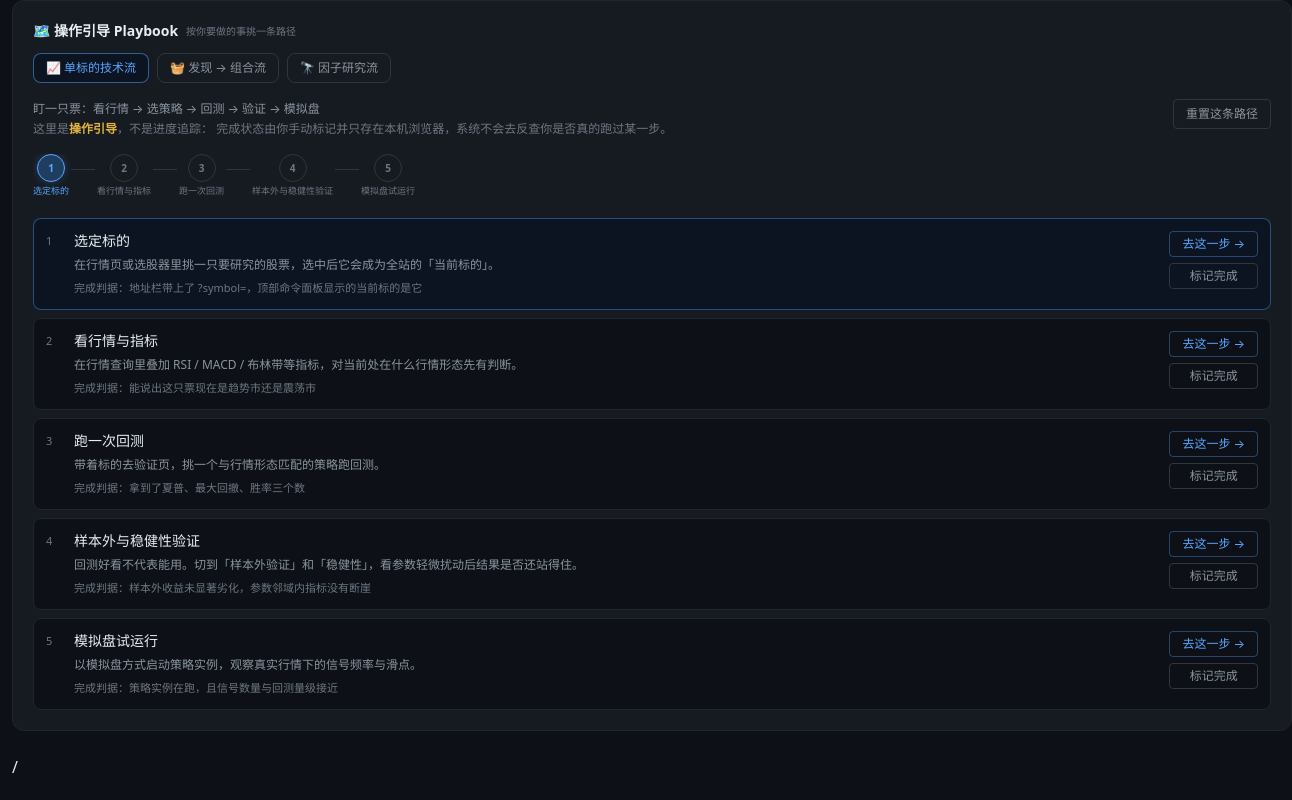
Scenario: Playbook 渲染 › 标记完成后落到 localStorage，重置后清空
This screenshot has width=1292, height=800.
Click the button "标记完成" in the row of "在行情页或选股器里挑一只要研究的股票，选中后它会成为全站的「当前标的」。" at (1214, 276), box x1=1169 y1=262 x2=1258 y2=288
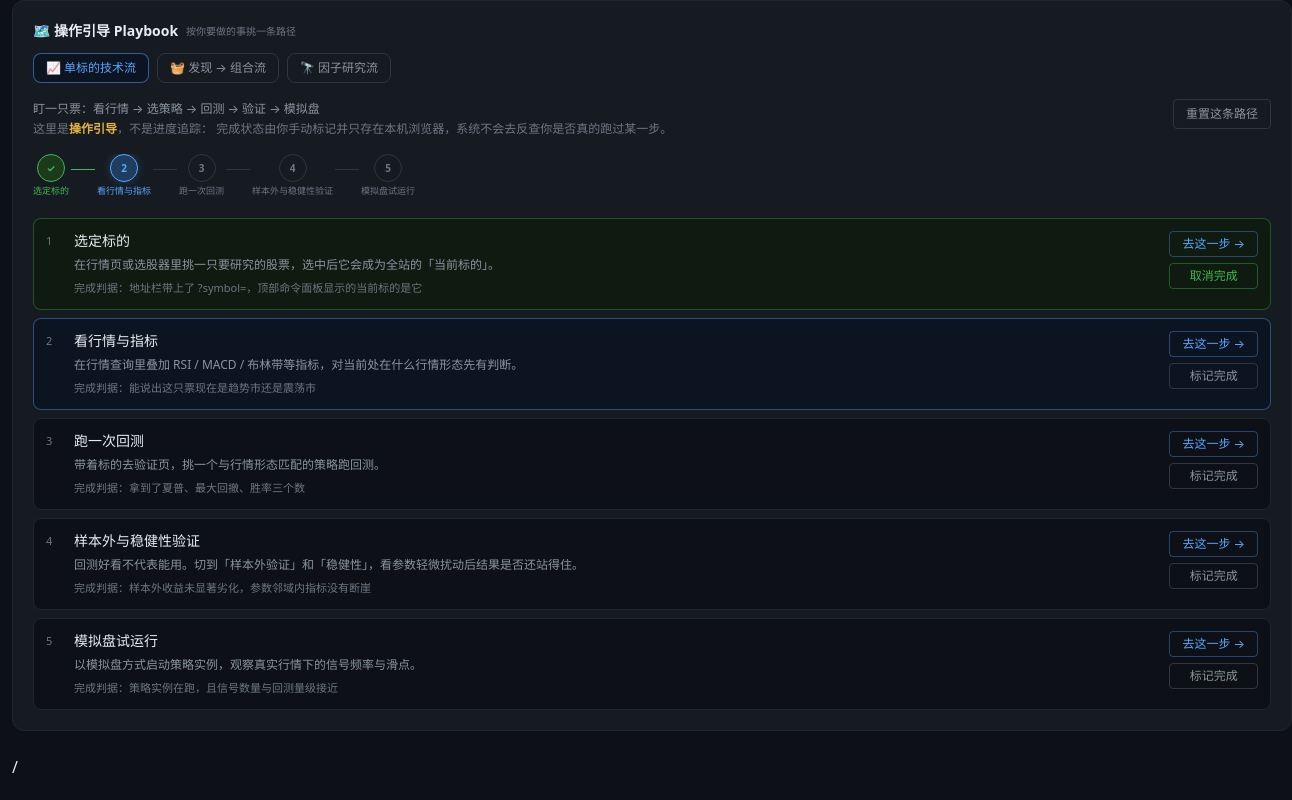
Check: the number of buttons "取消完成" is 1, box x1=1169 y1=262 x2=1258 y2=288
Click the button "重置这条路径" at (1222, 114), box x1=1173 y1=99 x2=1271 y2=129
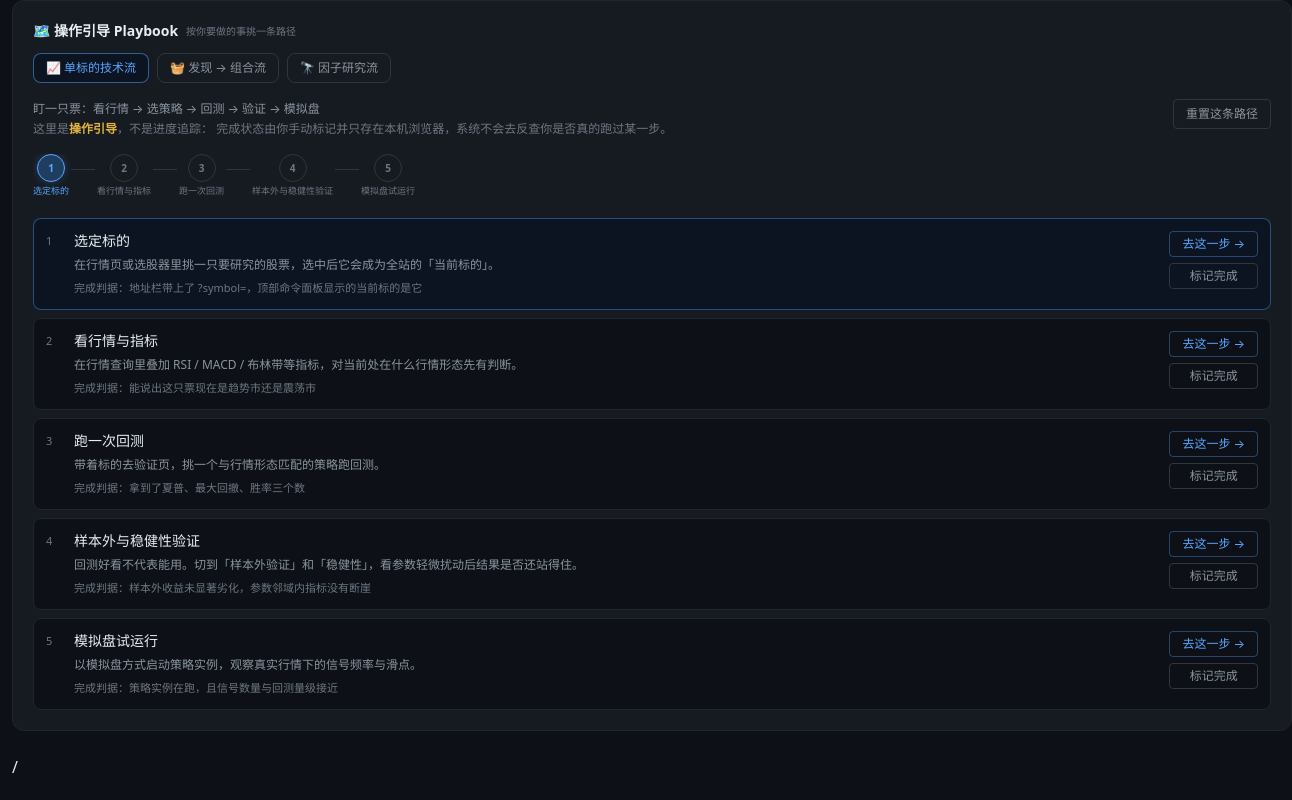
Check: no buttons "取消完成" are shown
